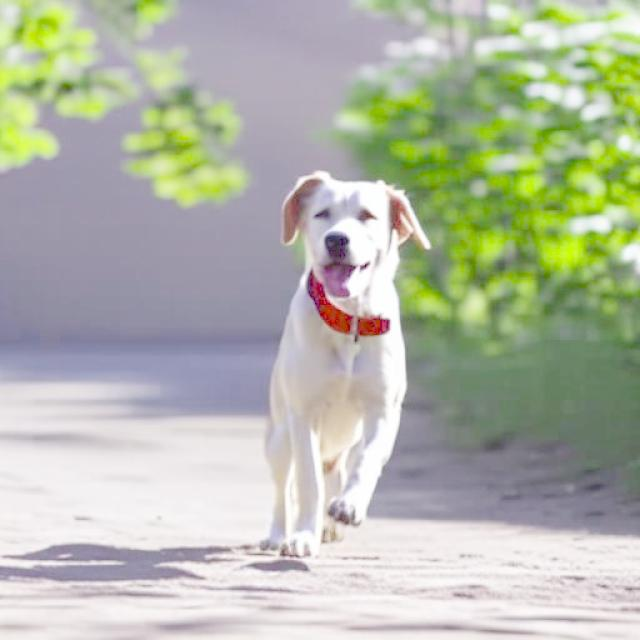Dog: (263, 170, 432, 558)
